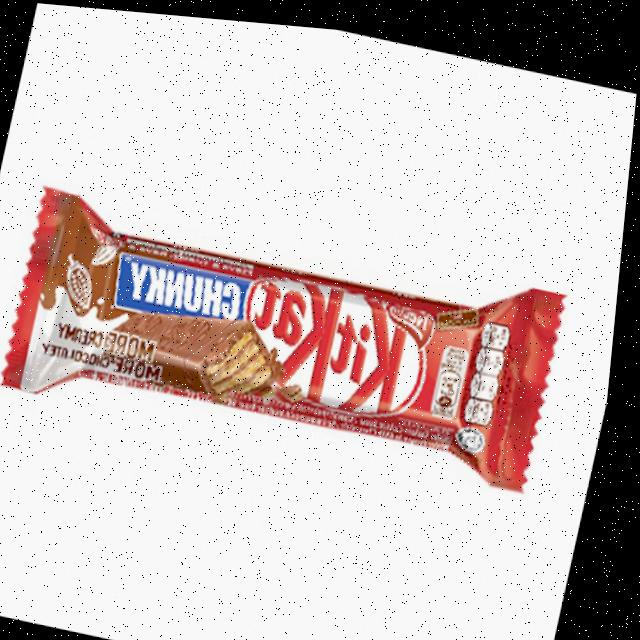kitkat: (2, 179, 576, 488)
